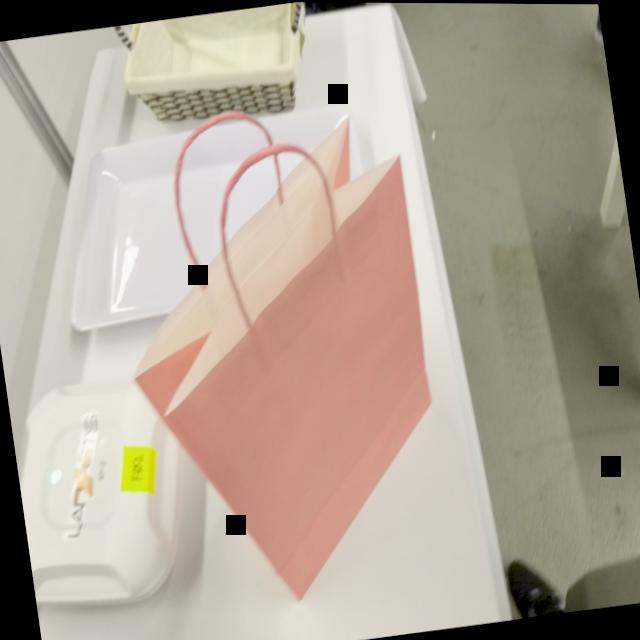help_me_carry_opl: (111, 119, 469, 635)
tray: (51, 96, 389, 342)
